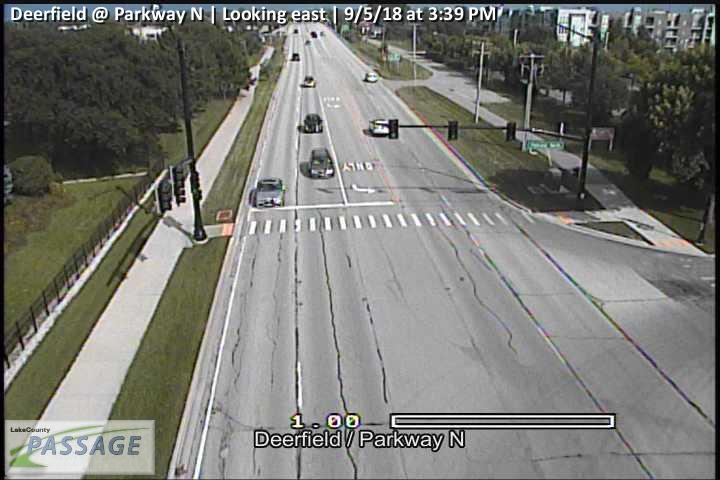Sedan: (256, 175, 286, 207), (310, 149, 334, 176), (367, 118, 392, 135), (303, 114, 323, 133)
